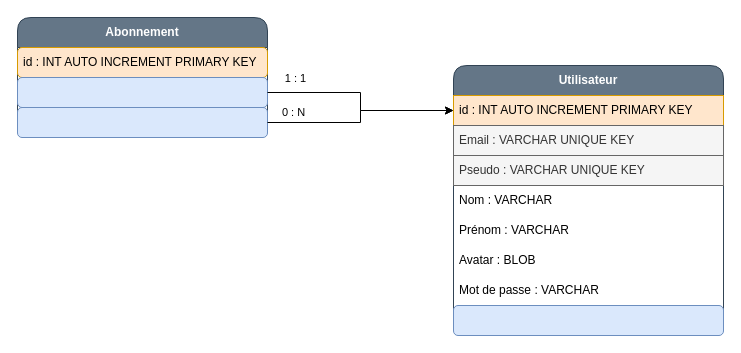
This 741x353 diagram has some shape labels left out. The shapes that lost their labels are listed below. From the top down, each one's centre as x and y in pixels, then its label:
At (x=142, y=92): "idUtilisateur : INT FOREIGN KEY".
At (x=142, y=122): "idAbonnement : INT FOREIGN KEY".
At (x=588, y=320): "idEntreprise : INT FOREIGN KEY".
